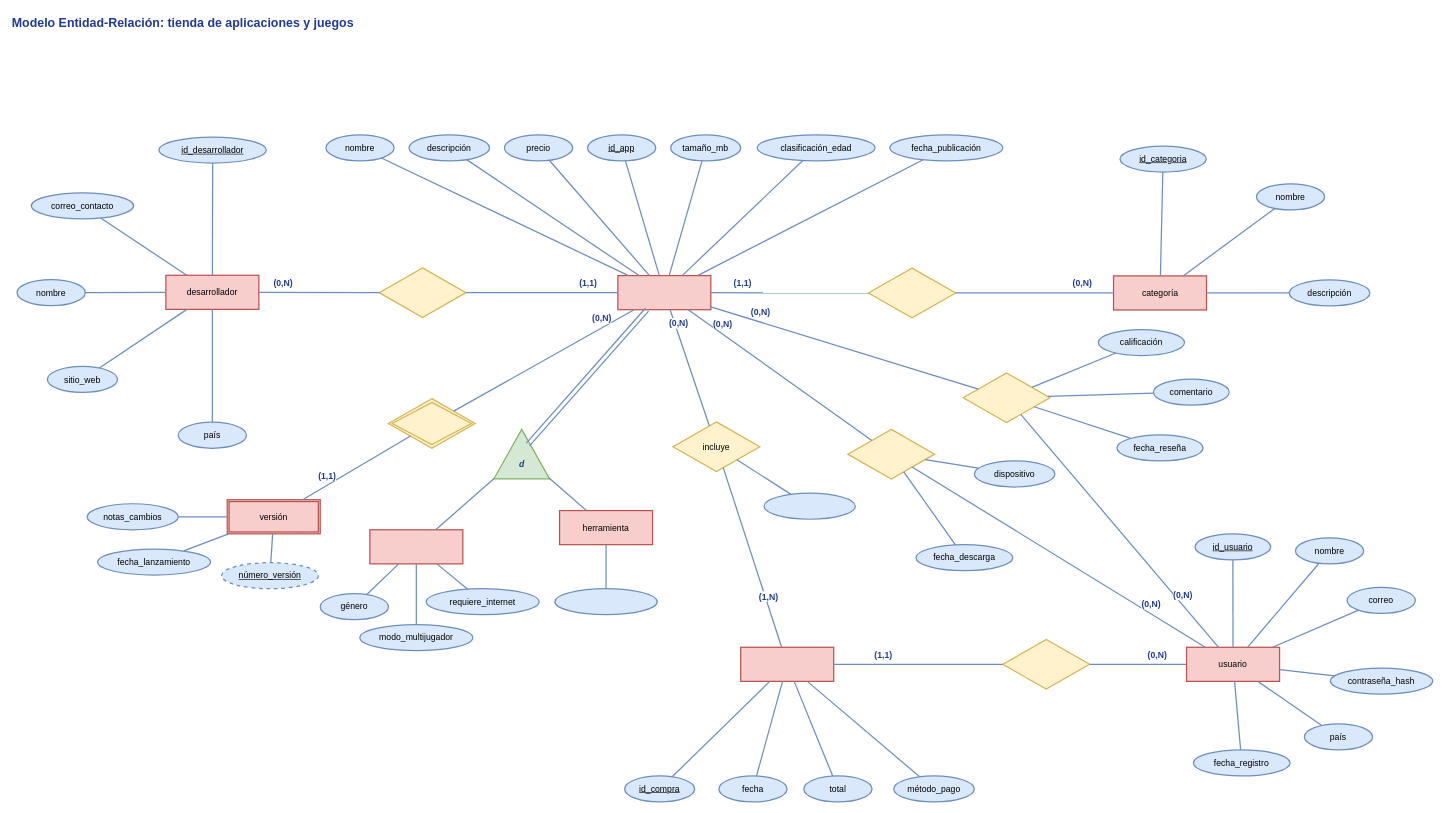
The diagram is 1444 pixels wide and 813 high, and some of its shapes have lost their labels. Each missing label, with the centre of its shape:
"aplicación" goes at pixel 664 292.
"clasifica" goes at pixel 911 292.
"compra" goes at pixel 787 664.
"descarga" goes at pixel 891 453.
"juego" goes at pixel 416 546.
"precio_pagado" goes at pixel 809 506.
"publica" goes at pixel 422 292.
"realiza" goes at pixel 1046 664.
"requiere_cuenta" goes at pixel 606 601.
"reseña" goes at pixel 1006 397.
"tiene" goes at pixel 432 423.
